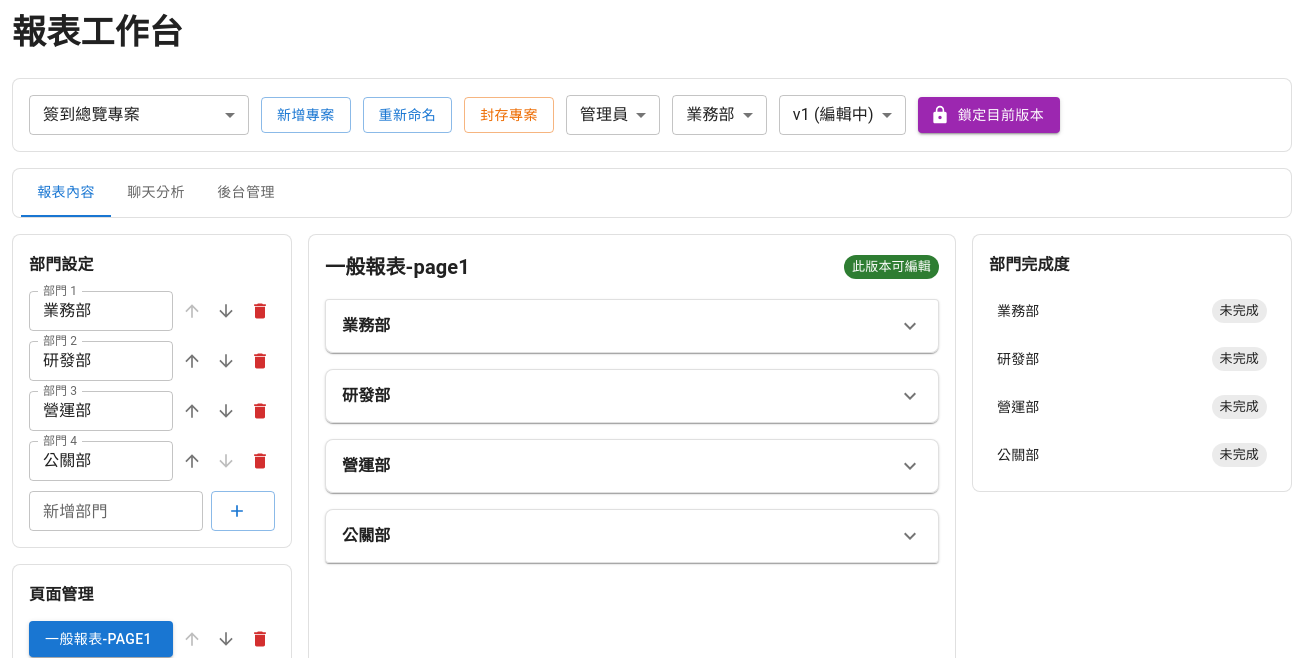
Scenario: ReportWorkspacePage backend management tab › shows finalized attendance groups after sign-in closes
Click the tab "後台管理": (246, 193) [201,169,291,217]
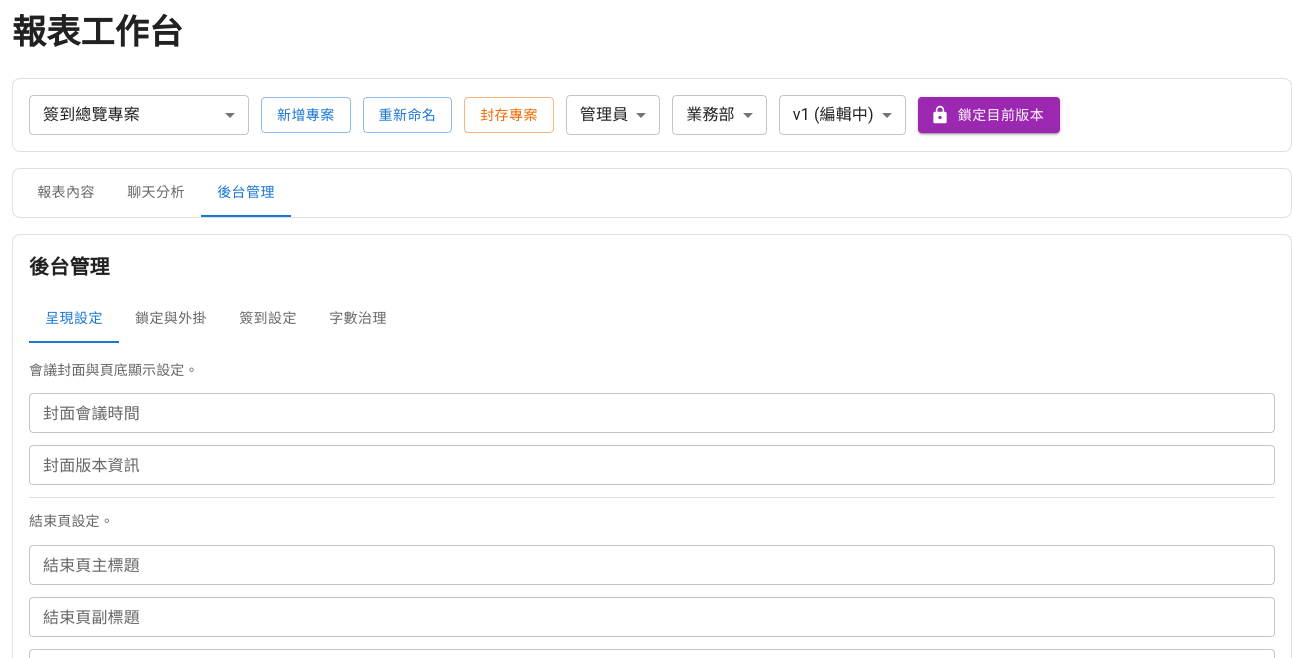
Click the tab "簽到設定": (268, 319) [223,295,313,343]
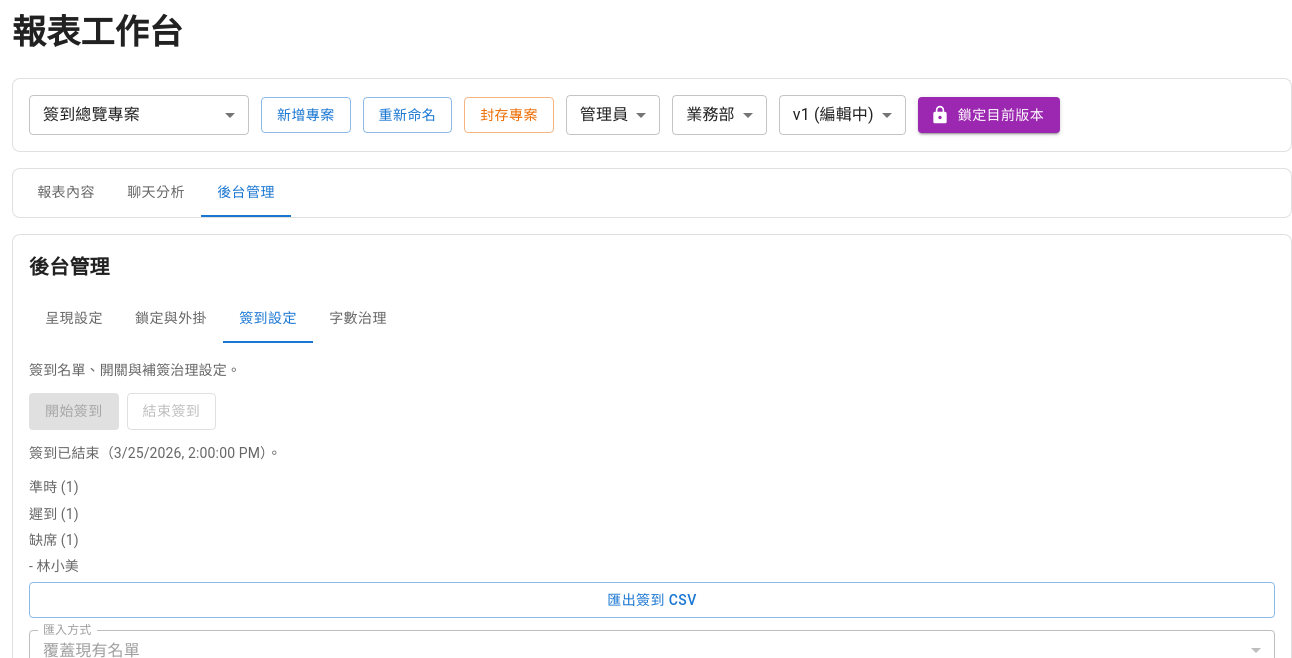
expect the text "準時 (1)" is shown: met, box [29,479,79,495]
expect the text "遲到 (1)" is shown: met, box [29,506,79,522]
expect the text "缺席 (1)" is shown: met, box [29,532,79,548]
